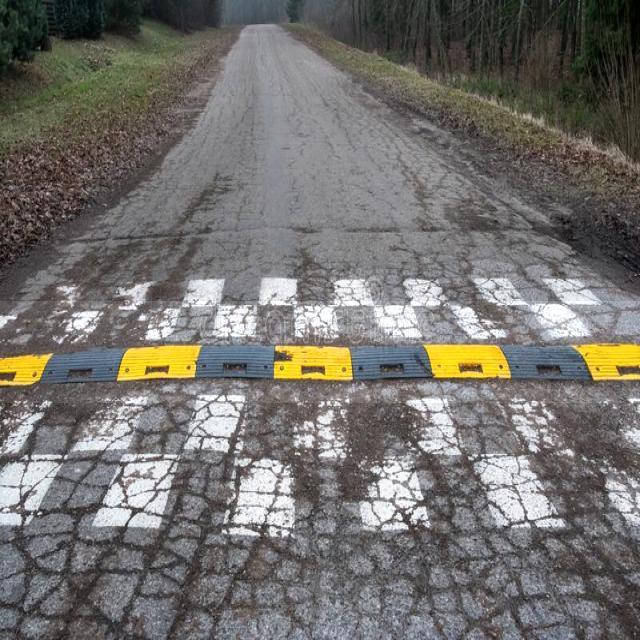speed-bump: (0, 301, 640, 403)
